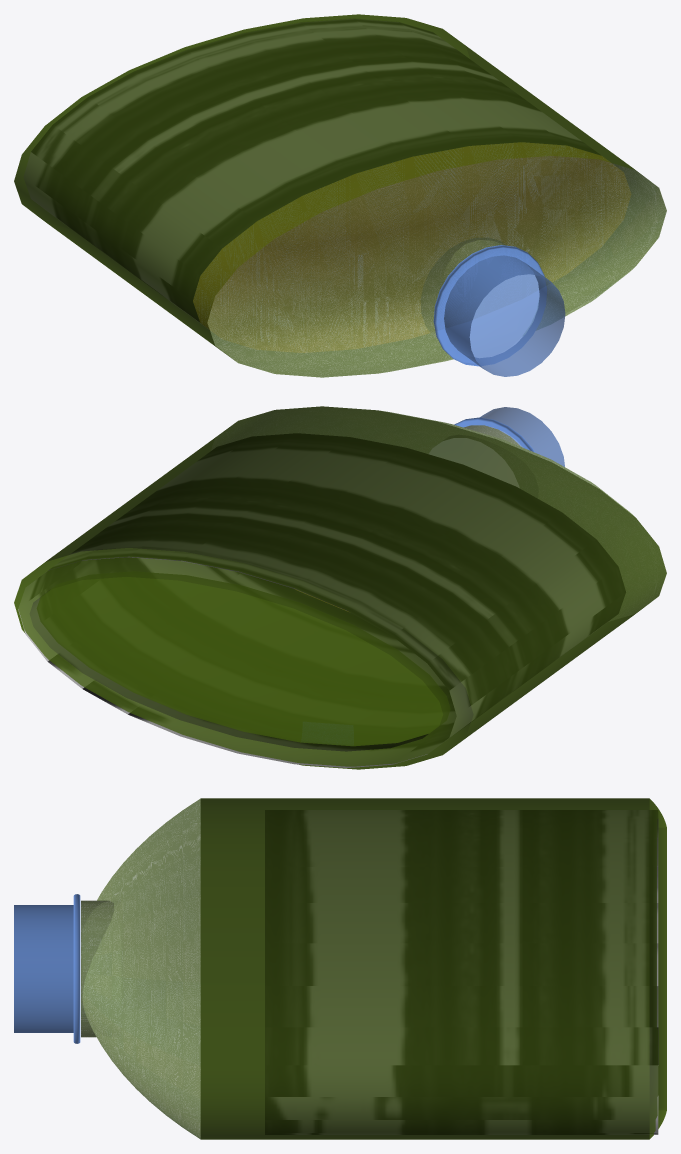
The model's file is model_scale.obj.
3 renders of one model, top to bottom at view 1: azimuth 30°, elevation 25°; view 2: azimuth 150°, elevation 25°; view 3: azimuth 270°, elevation 25°, orthographic. The views are drawn at different scales.
Parts seen in each view (by area): view 1: mesh2_mesh2-geometry, mesh1_mesh1-geometry, mesh3_mesh3-geometry, mesh4_mesh4-geometry; view 2: mesh2_mesh2-geometry, mesh1_mesh1-geometry, mesh4_mesh4-geometry, mesh3_mesh3-geometry; view 3: mesh2_mesh2-geometry, mesh1_mesh1-geometry, mesh3_mesh3-geometry, mesh4_mesh4-geometry.
Part boxes in pixels (left/top/right/bottom): mesh2_mesh2-geometry: left=14, top=14, right=666, bottom=377; mesh1_mesh1-geometry: left=24, top=19, right=630, bottom=352; mesh3_mesh3-geometry: left=433, top=245, right=565, bottom=376; mesh4_mesh4-geometry: left=421, top=238, right=538, bottom=357; mesh2_mesh2-geometry: left=14, top=406, right=666, bottom=769; mesh1_mesh1-geometry: left=18, top=433, right=625, bottom=767; mesh4_mesh4-geometry: left=429, top=425, right=537, bottom=497; mesh3_mesh3-geometry: left=454, top=407, right=564, bottom=466; mesh2_mesh2-geometry: left=82, top=798, right=666, bottom=1139; mesh1_mesh1-geometry: left=265, top=810, right=658, bottom=1134; mesh3_mesh3-geometry: left=14, top=894, right=80, bottom=1043; mesh4_mesh4-geometry: left=81, top=900, right=120, bottom=1037.
Size of the model in its own units: 0.1169 by 0.0465 by 0.1239.
